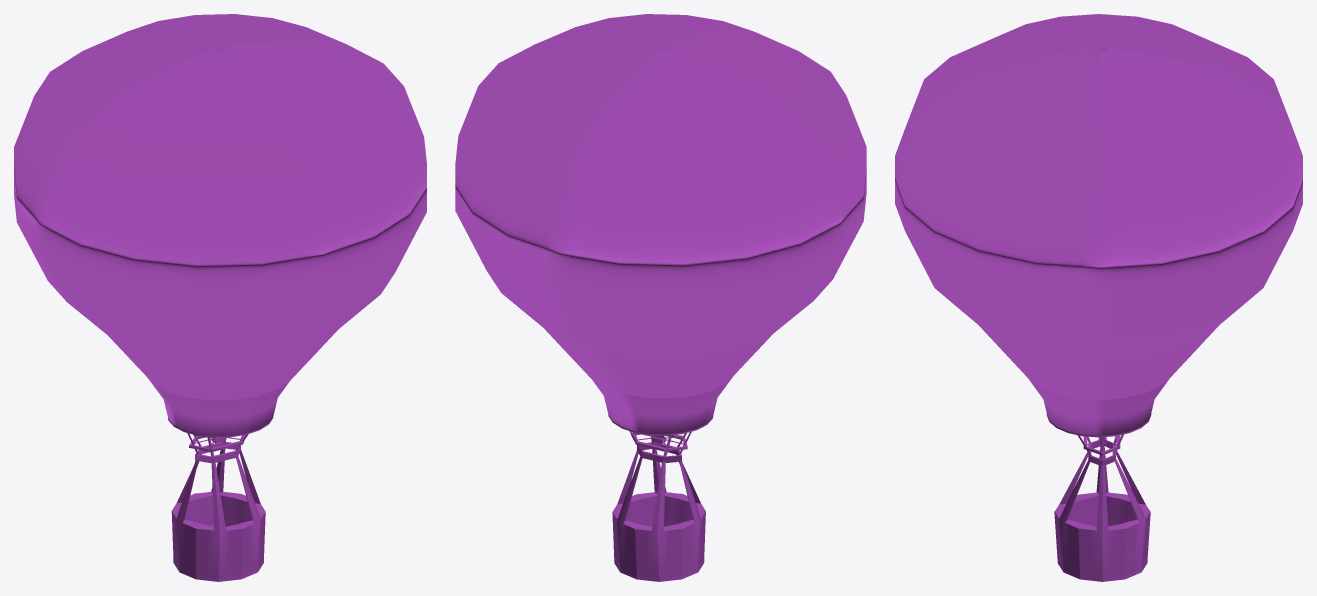
File: balon.fbx
3 views of the same model, side by side, from view 1: azimuth 30°, elevation 25°; view 2: azimuth 150°, elevation 25°; view 3: azimuth 270°, elevation 25° (orthographic).
Parts seen in each view (by area): view 1: pCylinder1, pDisc1, pCube2; view 2: pCylinder1, pDisc1, pCube2; view 3: pCylinder1, pDisc1, pCube2.
Boxes of the visible parts, x1,y1,x2,y2 form: pCylinder1: (14, 14, 426, 437); pDisc1: (171, 433, 265, 581); pCube2: (189, 435, 245, 463); pCylinder1: (455, 14, 866, 435); pDisc1: (612, 431, 705, 581); pCube2: (631, 432, 687, 462); pCylinder1: (895, 14, 1302, 437); pDisc1: (1054, 434, 1150, 581); pCube2: (1083, 435, 1120, 466).
Size of the model in its own units: 10777 by 14738 by 10572.
